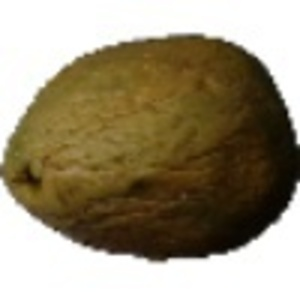mamão: (6, 29, 296, 266)
